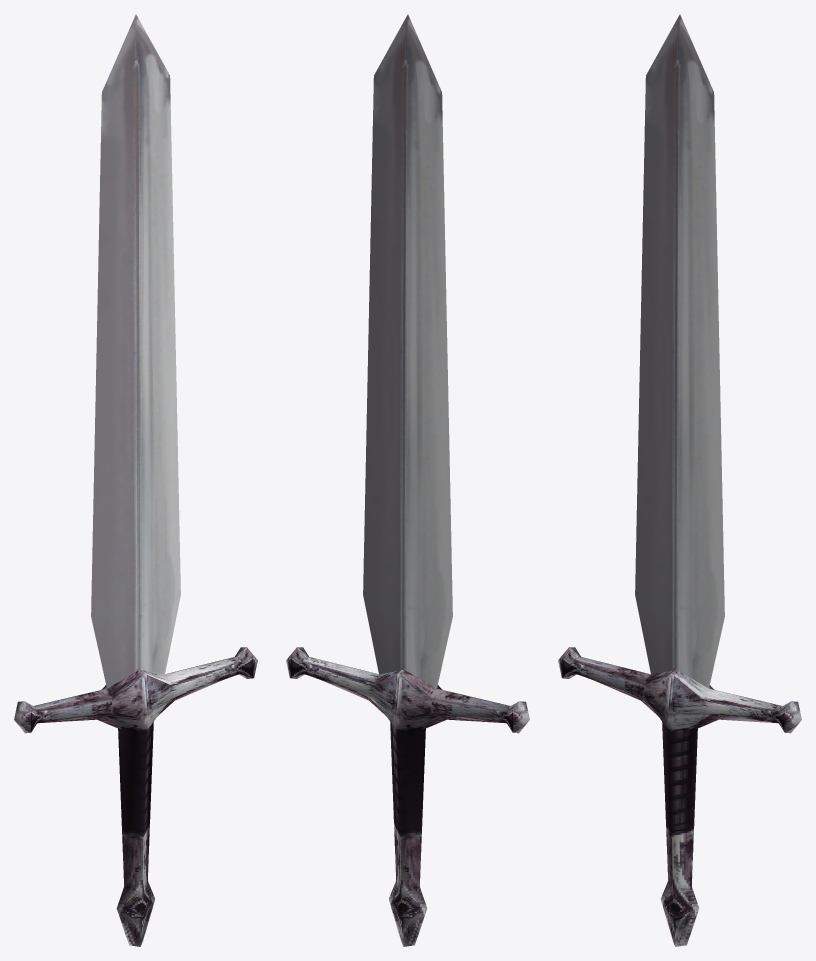
Rendered from broadsword.fbx.
3 renders of one model, left to right at view 1: azimuth 30°, elevation 25°; view 2: azimuth 150°, elevation 25°; view 3: azimuth 330°, elevation 25°, orthographic.
Visible parts, largest first — view 1: Broadsword; view 2: Broadsword; view 3: Broadsword.
Boxes of the visible parts, left/top/right/bottom form: Broadsword: left=14, top=14, right=257, bottom=946; Broadsword: left=286, top=14, right=529, bottom=946; Broadsword: left=558, top=14, right=801, bottom=946.
Bounding box in the file's own units: 21.13 × 76.93 × 3.42.
